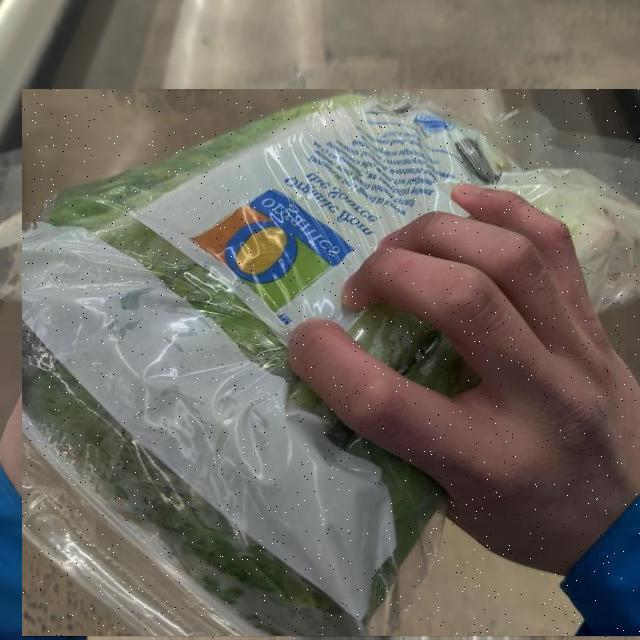Lettuce: (22, 90, 640, 640)
